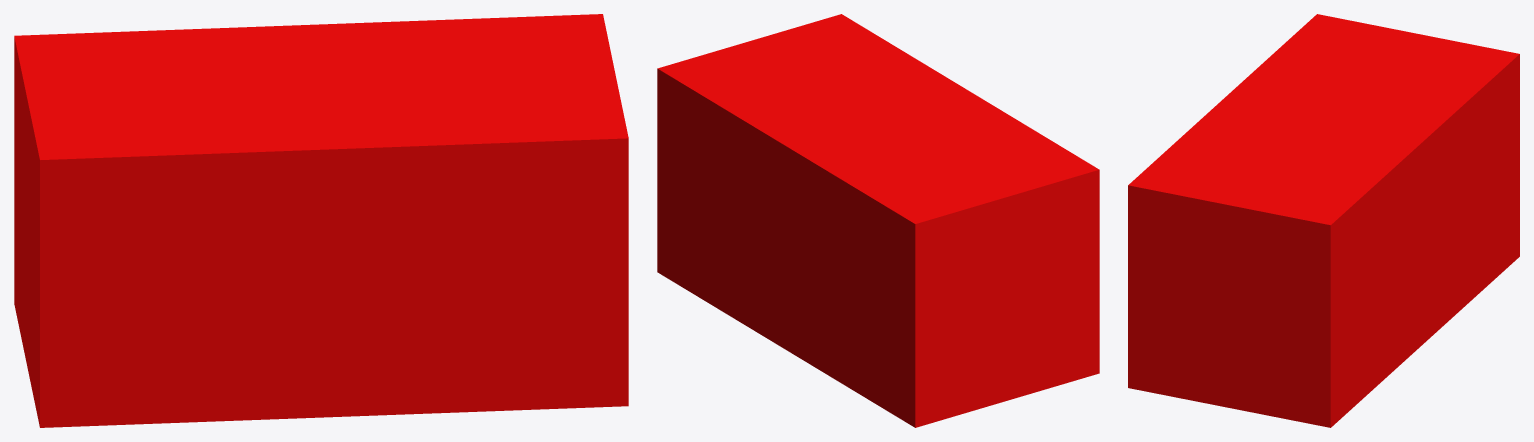
File: RedCuboid-0622.FBX
The picture shows the model from 3 angles, left to right: view 1: azimuth 30°, elevation 25°; view 2: azimuth 150°, elevation 25°; view 3: azimuth 270°, elevation 25°; orthographic projection. The views are drawn at different scales.
Visible parts, largest first — view 1: RedCuboid; view 2: RedCuboid; view 3: RedCuboid.
Boxes of the visible parts, x1,y1,x2,y2 form: RedCuboid: (14,14,628,427); RedCuboid: (657,14,1099,427); RedCuboid: (1128,14,1519,427).
Size of the model in its own units: 11.18 by 5 by 8.76.
